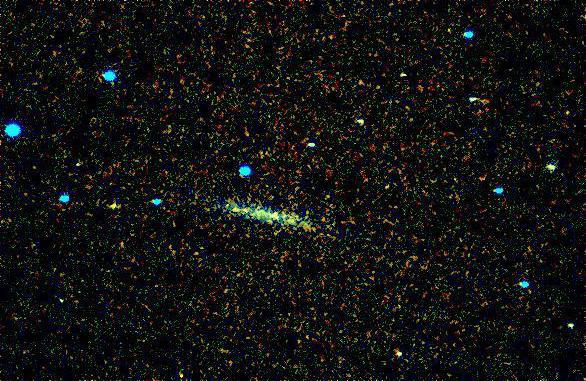star: (261, 196, 291, 226)
